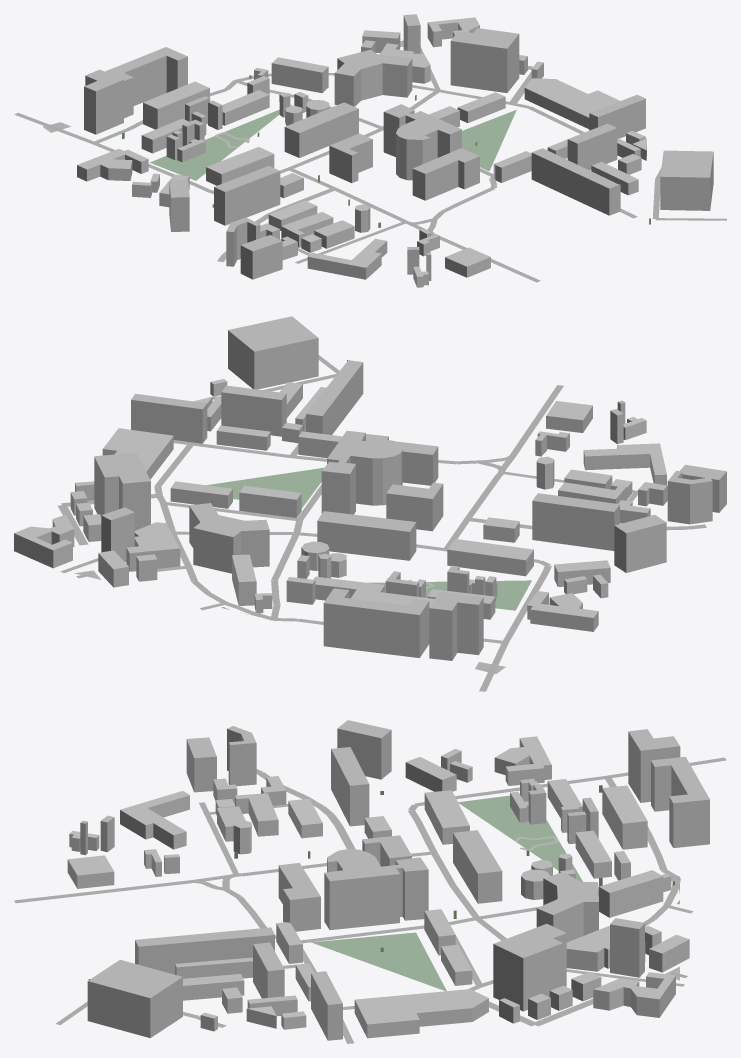
3 views of the same model, one above another, from view 1: azimuth 30°, elevation 25°; view 2: azimuth 150°, elevation 25°; view 3: azimuth 270°, elevation 25° (orthographic). The views are drawn at different scales.
Size of the model in its own units: 559 by 55.9 by 586.
